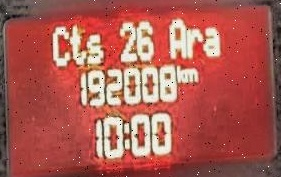0: (150, 110, 173, 156), (103, 113, 123, 158), (130, 112, 150, 157), (140, 63, 158, 105), (122, 64, 140, 105)
1: (77, 69, 88, 108), (93, 117, 102, 160)
2: (118, 20, 137, 66), (106, 65, 122, 106)
6: (137, 17, 154, 61)
8: (158, 61, 176, 101)
9: (88, 66, 105, 105)
X: (50, 24, 69, 69), (167, 16, 186, 59), (85, 30, 104, 65), (70, 23, 85, 66), (185, 25, 203, 57), (204, 25, 221, 57), (184, 66, 197, 83), (176, 62, 185, 82), (123, 120, 129, 149)
